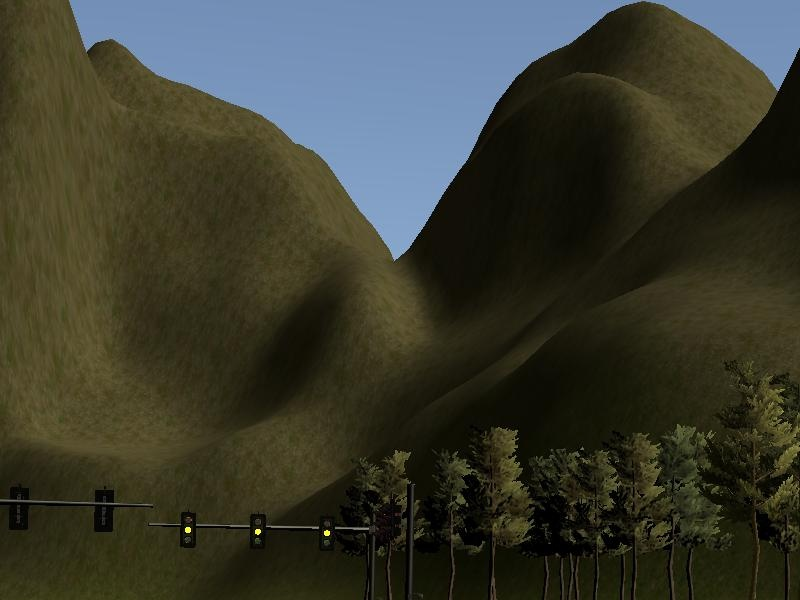yellow: (180, 511, 196, 547), (251, 514, 266, 550), (321, 514, 333, 550)
